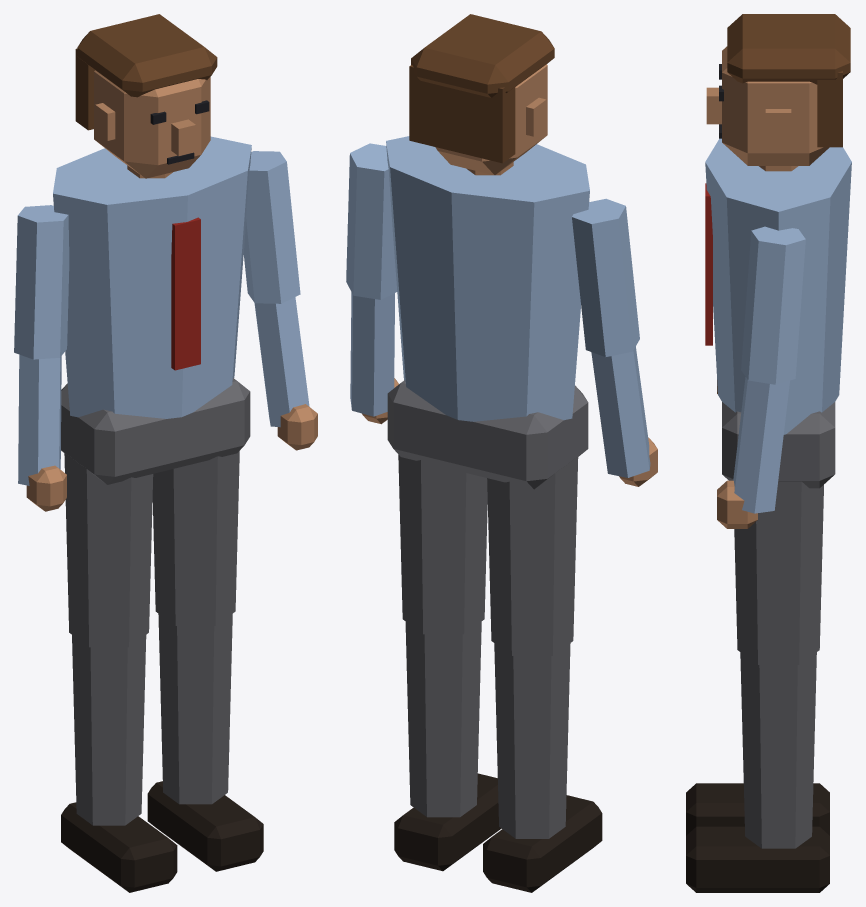
File: person.res-reliability-sensitive.glb
3 views of the same model, side by side, from view 1: azimuth 30°, elevation 25°; view 2: azimuth 150°, elevation 25°; view 3: azimuth 270°, elevation 25° (orthographic). The views are drawn at different scales.
Parts seen in each view (by area): view 1: torso, thigh-1, thigh1, shin1, shin-1, hips, upper-1, hair, head, upper1, shoe-1, shoe1 (+8 smaller); view 2: torso, thigh-1, thigh1, shin1, shin-1, hips, upper-1, hair, hair-back, upper1, shoe-1, fore-1 (+4 smaller); view 3: torso, thigh1, shin1, upper1, shoe1, hair, head, fore1, hips, shoe-1, hair-back, hand1 (+3 smaller).
Part boxes in pixels (x1,y1,x2,y2): torso: (53, 136, 251, 418); thigh-1: (64, 453, 153, 647); thigh1: (152, 451, 239, 625); shin1: (158, 613, 232, 804); shin-1: (72, 635, 146, 825); hips: (61, 378, 250, 484); upper-1: (14, 205, 69, 359); hair: (77, 14, 217, 97); head: (94, 70, 210, 178); upper1: (243, 151, 300, 303); shoe-1: (61, 802, 177, 892); shoe1: (147, 781, 263, 871); torso: (386, 136, 589, 421); thigh-1: (487, 456, 578, 655); thigh1: (398, 454, 487, 634); shin1: (405, 622, 481, 817); shin-1: (494, 643, 570, 838); hips: (387, 380, 588, 489); upper-1: (572, 198, 639, 356); hair: (411, 14, 554, 97); hair-back: (409, 65, 515, 163); upper1: (346, 143, 397, 299); shoe-1: (483, 795, 602, 892); fore-1: (591, 346, 650, 477); torso: (705, 138, 851, 434); thigh1: (734, 481, 823, 664); shin1: (740, 652, 816, 848); upper1: (741, 226, 805, 384); shoe1: (686, 826, 829, 892); hair: (727, 14, 850, 84); head: (722, 46, 829, 165); fore1: (733, 377, 789, 513); hips: (722, 402, 835, 488); shoe-1: (686, 783, 829, 835); hair-back: (817, 71, 842, 147); hand1: (717, 480, 757, 528).
Bounding box in the file's own units: 0.6746 × 1.78 × 0.3226.
